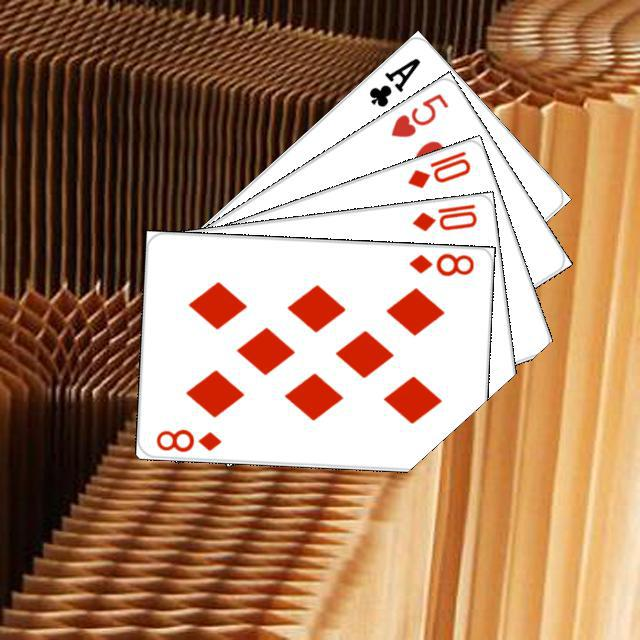10d: (402, 146, 473, 190), (407, 199, 479, 233)
5h: (385, 88, 450, 140)
8d: (151, 424, 222, 454), (404, 249, 475, 278)
Ac: (363, 52, 423, 109)
